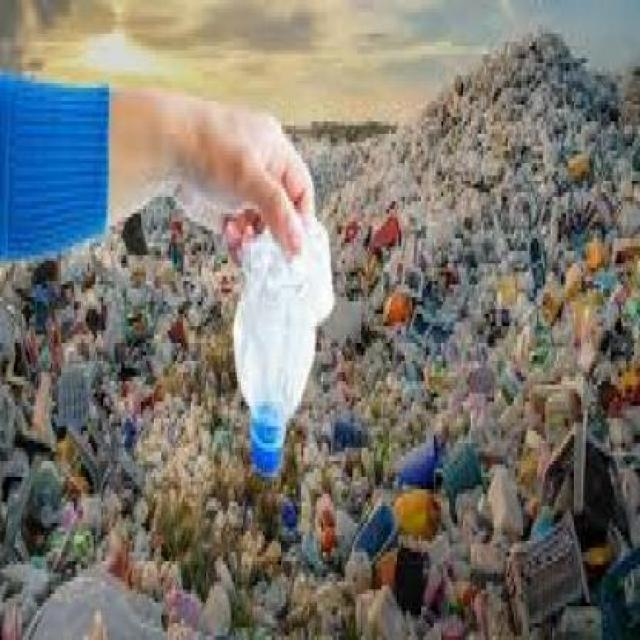garbage: (13, 260, 639, 636), (330, 109, 639, 260), (429, 25, 638, 118)
